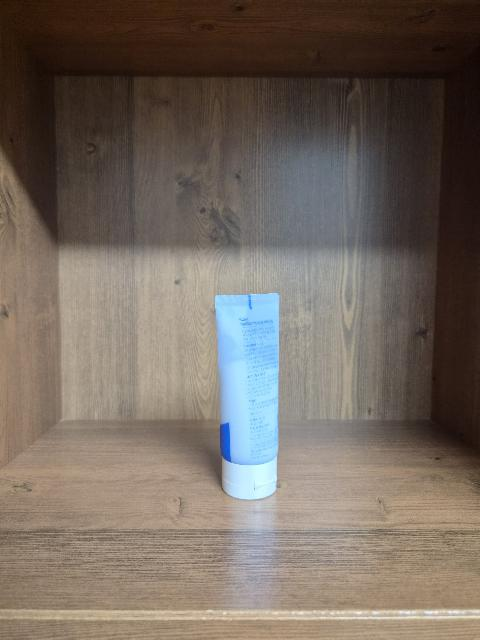handcream: (214, 293, 279, 500)
